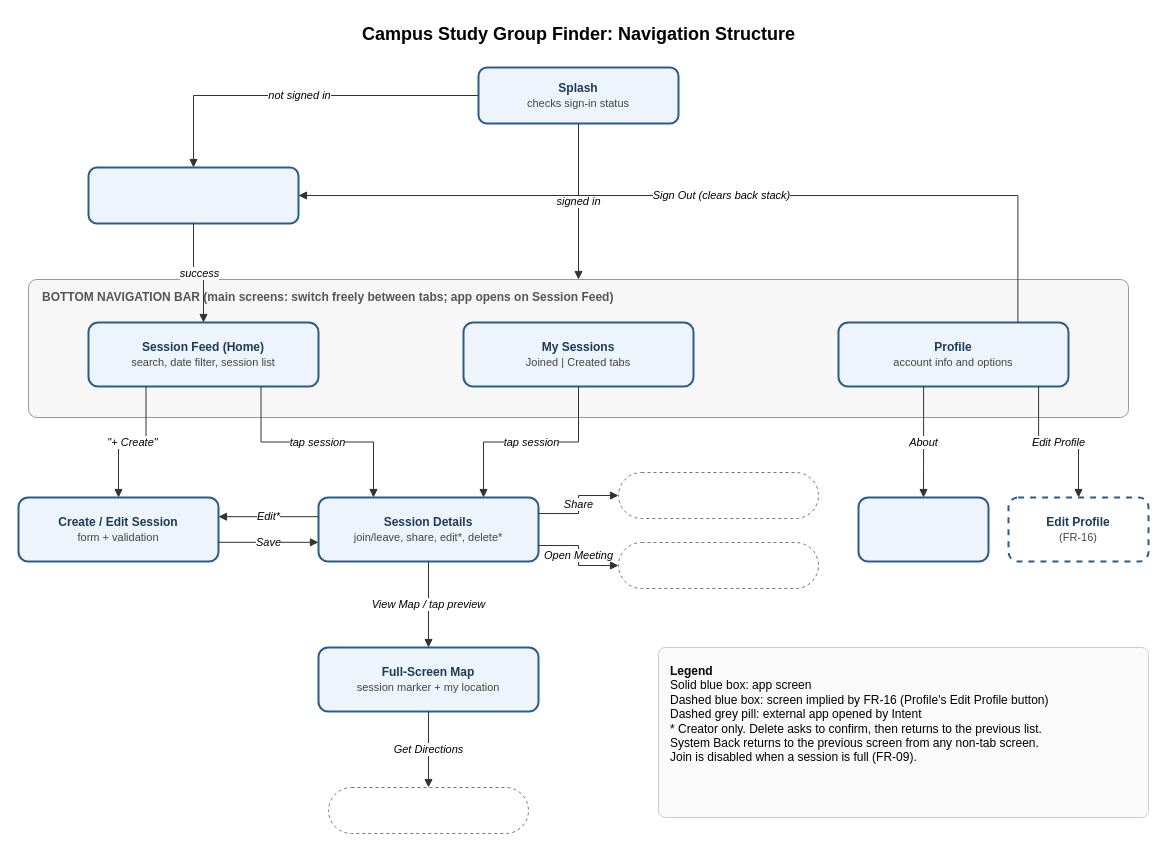
Some shapes in this 1166 by 851 pixel diagram are drawn without their labels. Each missing label, with the box of its shape:
About team members: (857, 496, 989, 562)
Browser / meeting app (online sessions): (618, 542, 818, 588)
Email app (Android share sheet): (618, 472, 818, 518)
Google Maps app (turn-by-turn directions): (328, 786, 528, 834)
Login / Sign Up college email + password: (87, 166, 299, 224)
